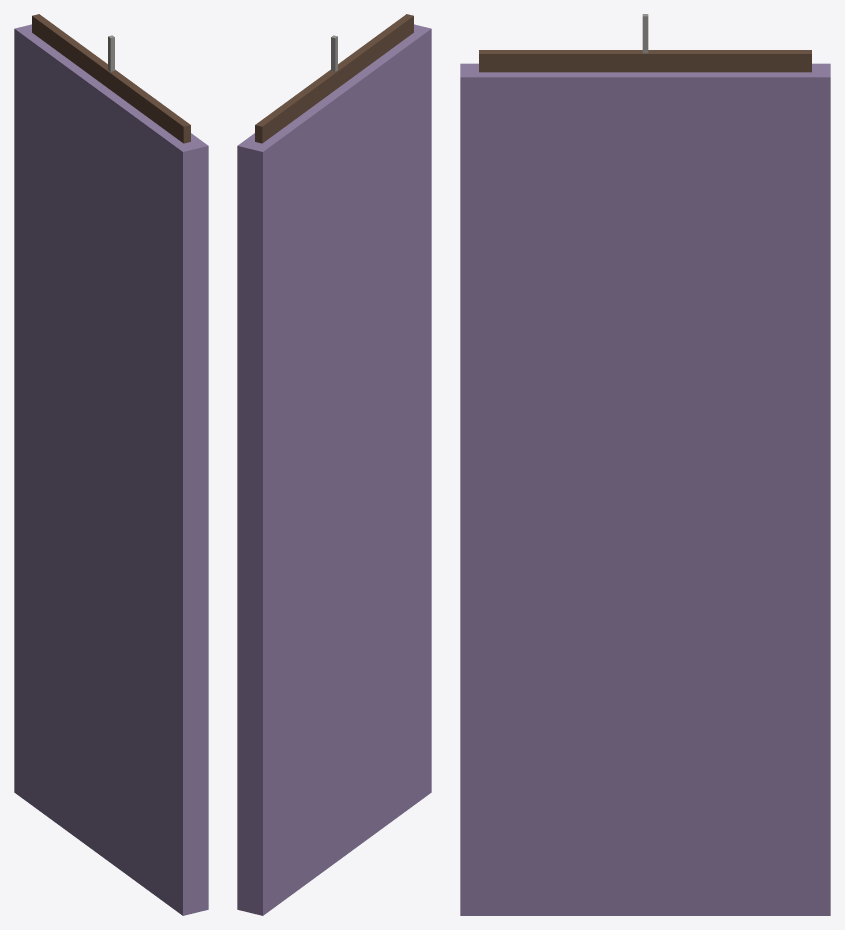
File: dress-lilac-hung.glb
The picture shows the model from 3 angles, left to right: view 1: azimuth 30°, elevation 25°; view 2: azimuth 150°, elevation 25°; view 3: azimuth 270°, elevation 25°; orthographic projection. The views are drawn at different scales.
Visible parts, largest first — view 1: accent-lilac, wood; view 2: accent-lilac, wood; view 3: accent-lilac, wood.
Boxes of the visible parts, <box> form: accent-lilac: <box>14,24,208,915</box>; wood: <box>32,14,190,143</box>; accent-lilac: <box>237,24,431,915</box>; wood: <box>255,14,413,143</box>; accent-lilac: <box>460,63,830,915</box>; wood: <box>479,50,811,72</box>.
Bounding box in the file's own units: 0.035 × 1.07 × 0.4.
